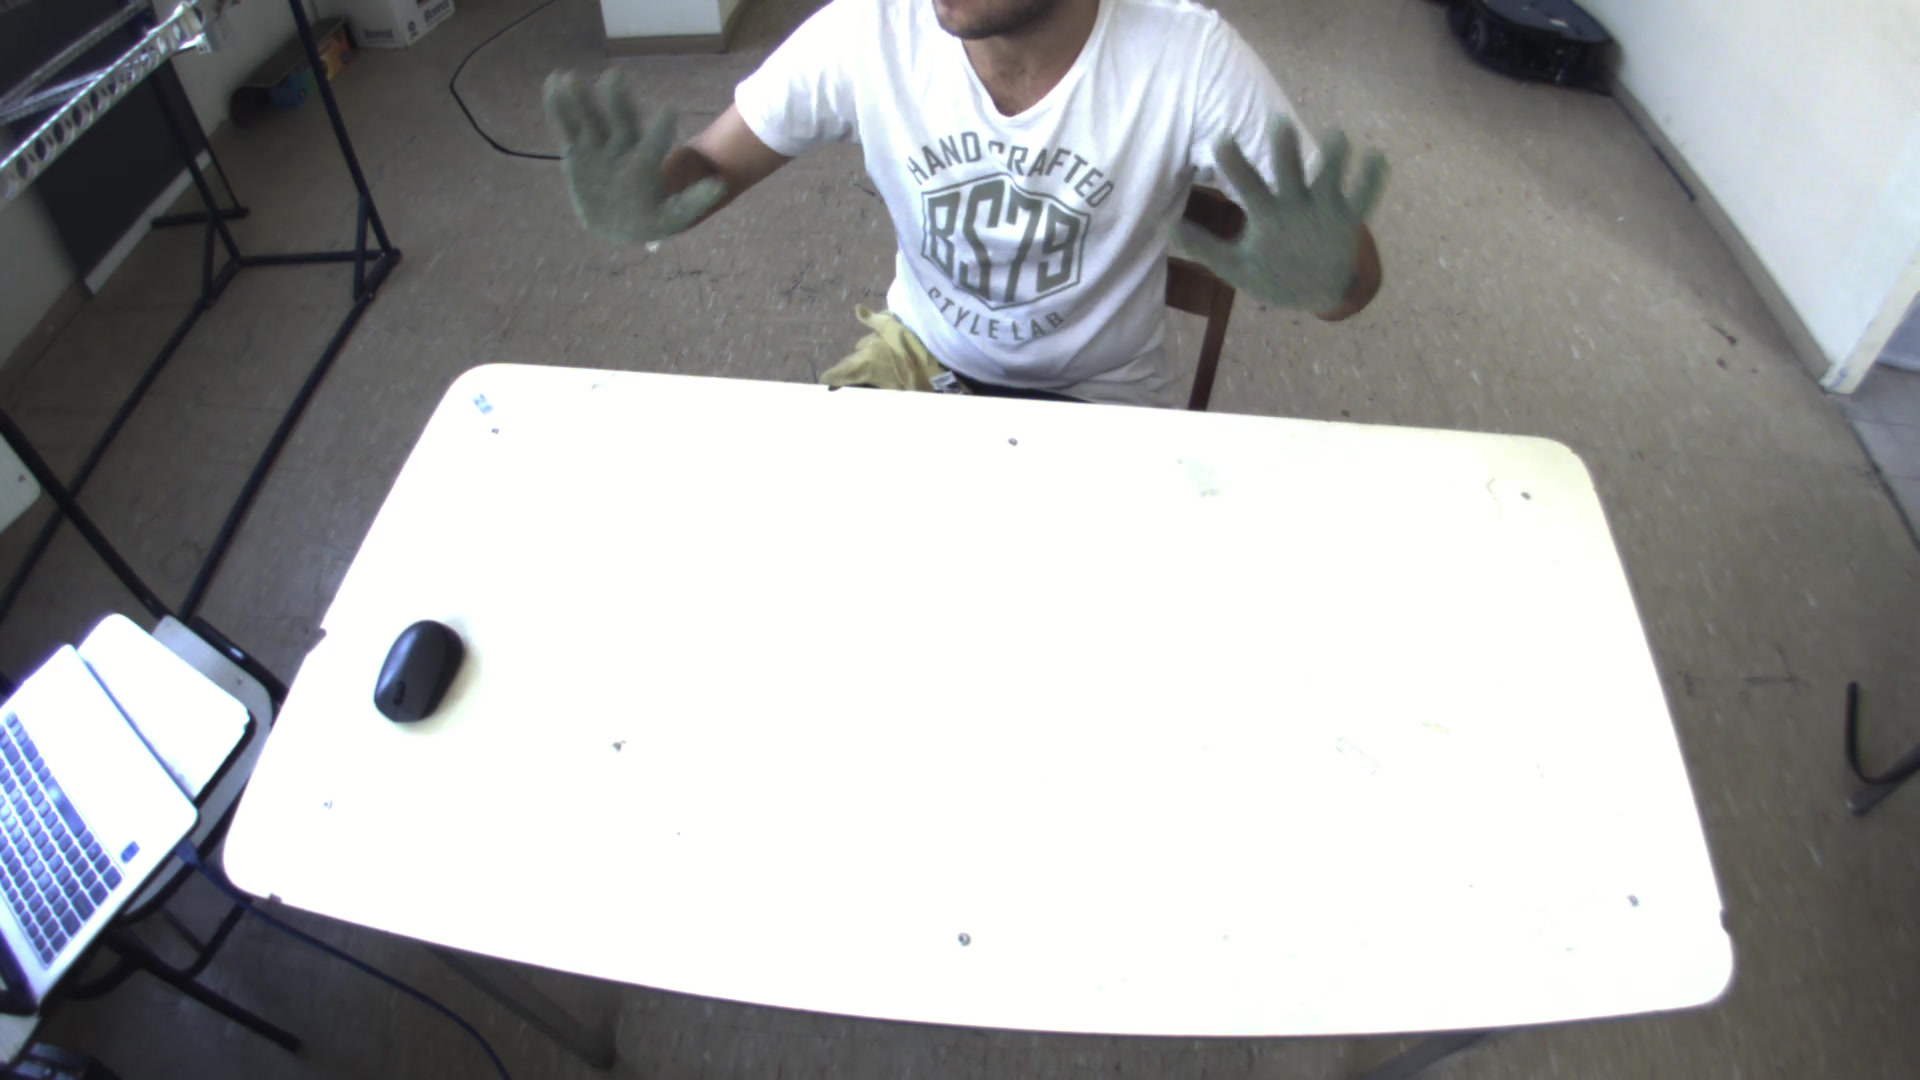hand: (1176, 113, 1403, 316), (525, 65, 728, 247)
